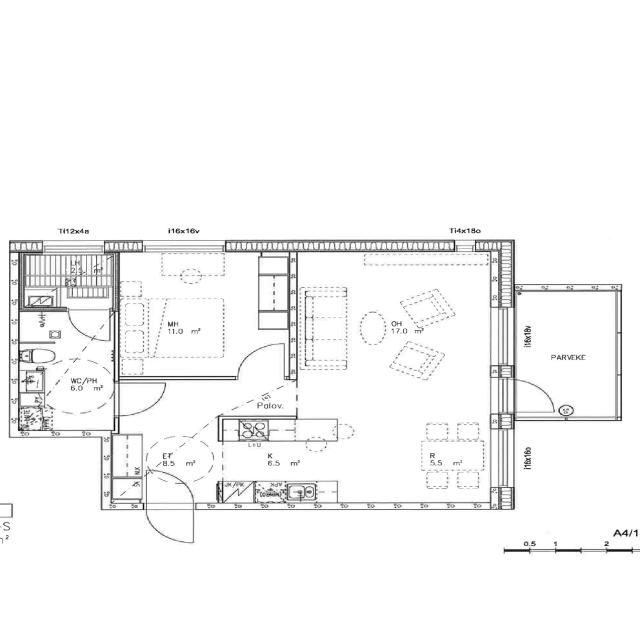door: (115, 251, 286, 379), (143, 470, 199, 546), (112, 378, 168, 418), (234, 340, 288, 381), (508, 376, 558, 415), (64, 304, 113, 341)
window: (488, 304, 520, 370), (488, 426, 520, 492), (139, 240, 224, 254), (39, 240, 105, 253), (7, 317, 20, 343), (452, 240, 477, 253), (576, 547, 612, 555)
zone: (512, 288, 620, 420), (14, 310, 117, 432), (20, 252, 115, 308)
